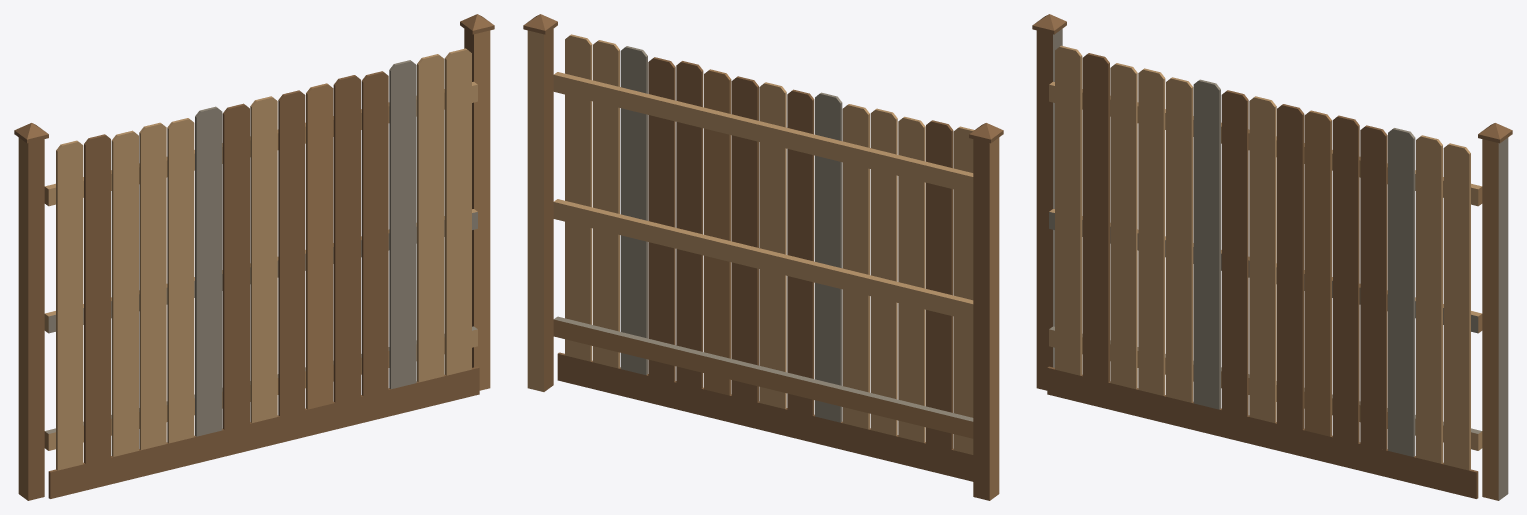
The model's file is fence_panel.obj.
3 views of the same model, side by side, from view 1: azimuth 30°, elevation 25°; view 2: azimuth 150°, elevation 25°; view 3: azimuth 330°, elevation 25° (orthographic).
Bounding box in the file's own units: 2.56 × 1.95 × 0.1591.
